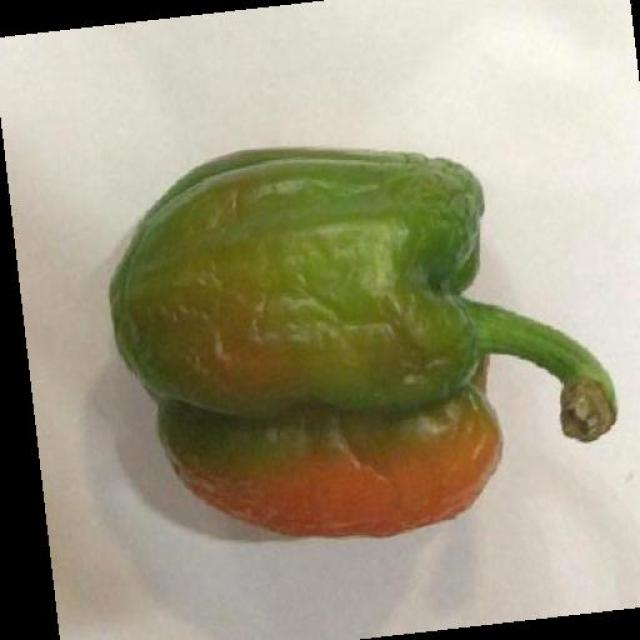Stale_Capsicum: (100, 129, 626, 545)
